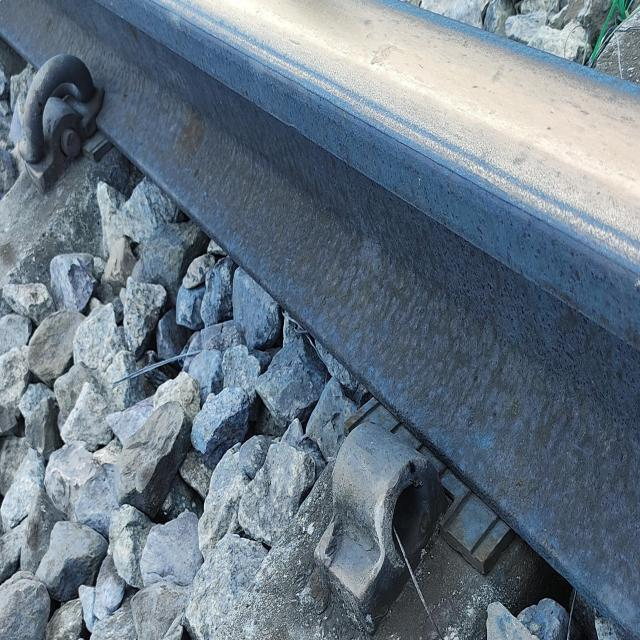Good Fasteners: (17, 27, 114, 187)
Missing Fastener: (307, 409, 454, 629)
